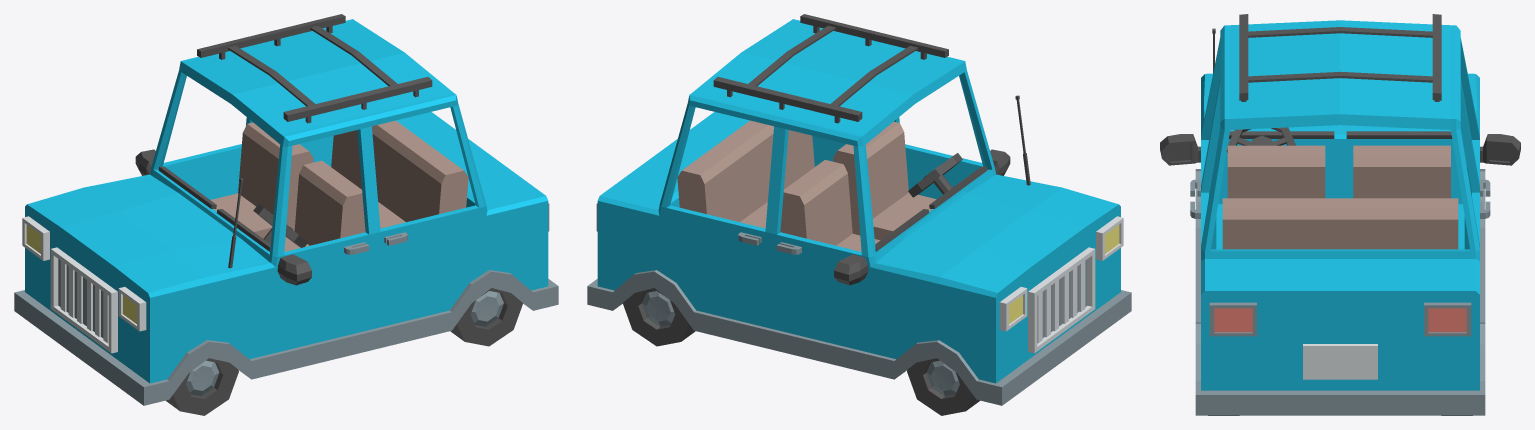
Rendered from Car.glb.
The picture shows the model from 3 angles, left to right: view 1: azimuth 30°, elevation 25°; view 2: azimuth 150°, elevation 25°; view 3: azimuth 270°, elevation 25°; orthographic projection. The views are drawn at different scales.
Visible parts, largest first — view 1: car_01_Cube.004; view 2: car_01_Cube.004; view 3: car_01_Cube.004.
Boxes of the visible parts, x1,y1,x2,y2 form: car_01_Cube.004: (14,14,558,415); car_01_Cube.004: (587,14,1131,415); car_01_Cube.004: (1160,14,1520,415).
Size of the model in its own units: 323 by 200 by 218.
